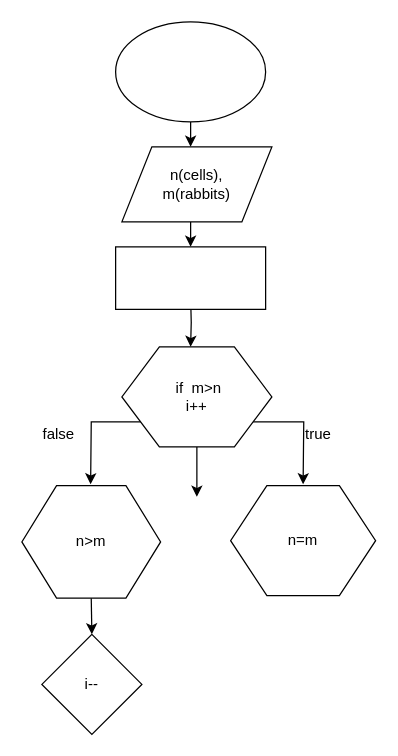
Some shapes in this 398 by 756 pixel diagram are drawn without their labels. Each missing label, with the centre of its shape:
"bashla" goes at (190,71).
"m>=n n=i" goes at (190,277).
